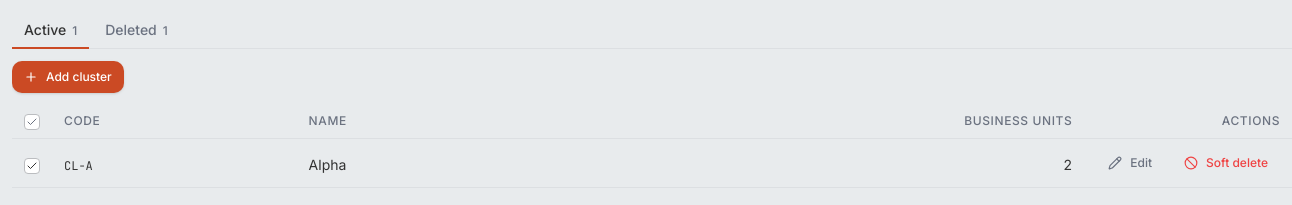
Test: deleted tab shows deleted clusters with restore and hard-delete controls
The image size is (1292, 205).
Click the tab "Deleted1": [136, 30] box [93, 12, 180, 48]
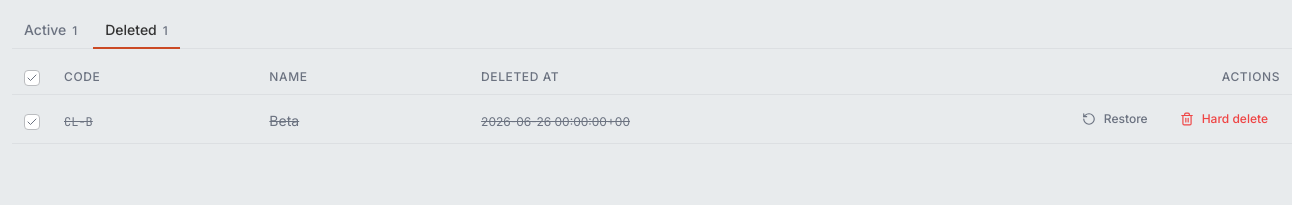
Check: the text "CL-B" is shown, box [52, 94, 257, 143]
Check: the text "CL-A" is gone
